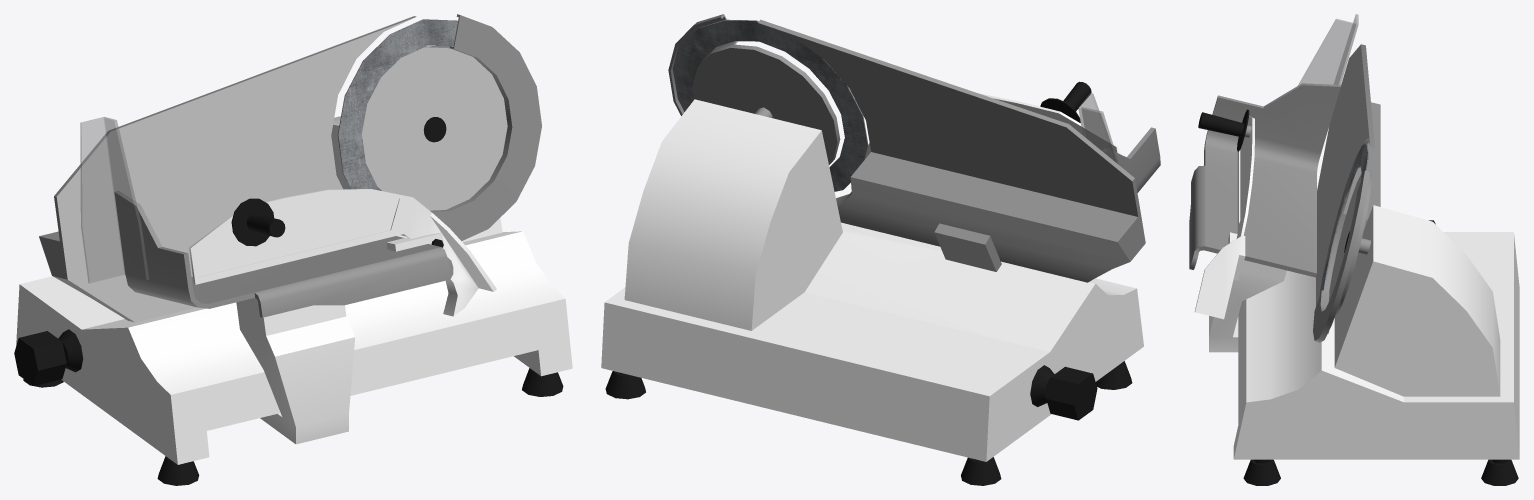
The model's file is meat_slicer.FBX.
3 views of the same model, side by side, from view 1: azimuth 30°, elevation 25°; view 2: azimuth 150°, elevation 25°; view 3: azimuth 270°, elevation 25° (orthographic). The views are drawn at different scales.
Visible parts, largest first — view 1: meat_slicer; view 2: meat_slicer; view 3: meat_slicer.
Part boxes in pixels (x1=…): meat_slicer: x1=14, y1=14, x2=572, y2=485; meat_slicer: x1=601, y1=14, x2=1160, y2=485; meat_slicer: x1=1189, y1=14, x2=1519, y2=485.
Bounding box in the file's own units: 0.7449 × 0.5099 × 0.5044.
